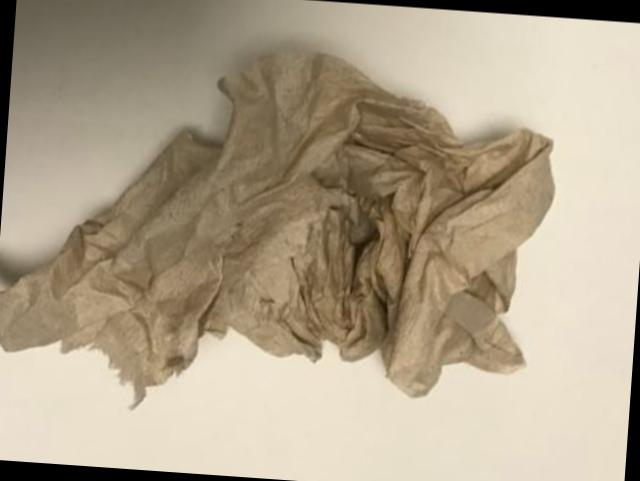cardboard paper: (0, 55, 555, 404)
